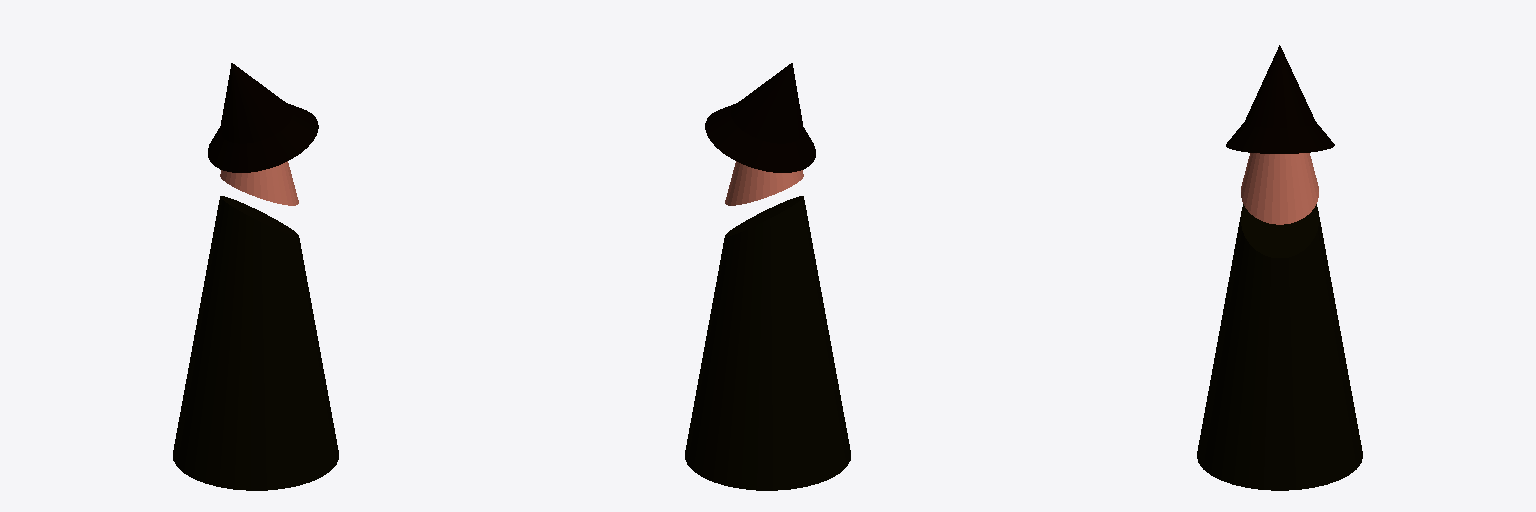
File: unitWorker.obj
3 views of the same model, side by side, from view 1: azimuth 30°, elevation 25°; view 2: azimuth 150°, elevation 25°; view 3: azimuth 270°, elevation 25° (orthographic).
Parts seen in each view (by area): view 1: Cube_Cube.001, Cone; view 2: Cube_Cube.001, Cone; view 3: Cube_Cube.001, Cone.
Part boxes in pixels (left/top/right/bottom): Cube_Cube.001: left=173, top=161, right=338, bottom=490; Cone: left=208, top=63, right=318, bottom=172; Cube_Cube.001: left=685, top=161, right=850, bottom=490; Cone: left=705, top=63, right=815, bottom=172; Cube_Cube.001: left=1197, top=153, right=1362, bottom=490; Cone: left=1226, top=45, right=1334, bottom=153.
Size of the model in its own units: 0.9215 by 2.43 by 0.9215.